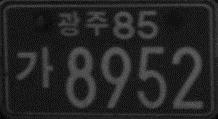2: (171, 48, 206, 112)
5: (137, 44, 166, 110), (136, 9, 158, 40)
8: (65, 45, 96, 109), (112, 10, 135, 39)
9: (99, 45, 132, 112)
가: (16, 46, 54, 90)
광주_O: (57, 10, 109, 37)
